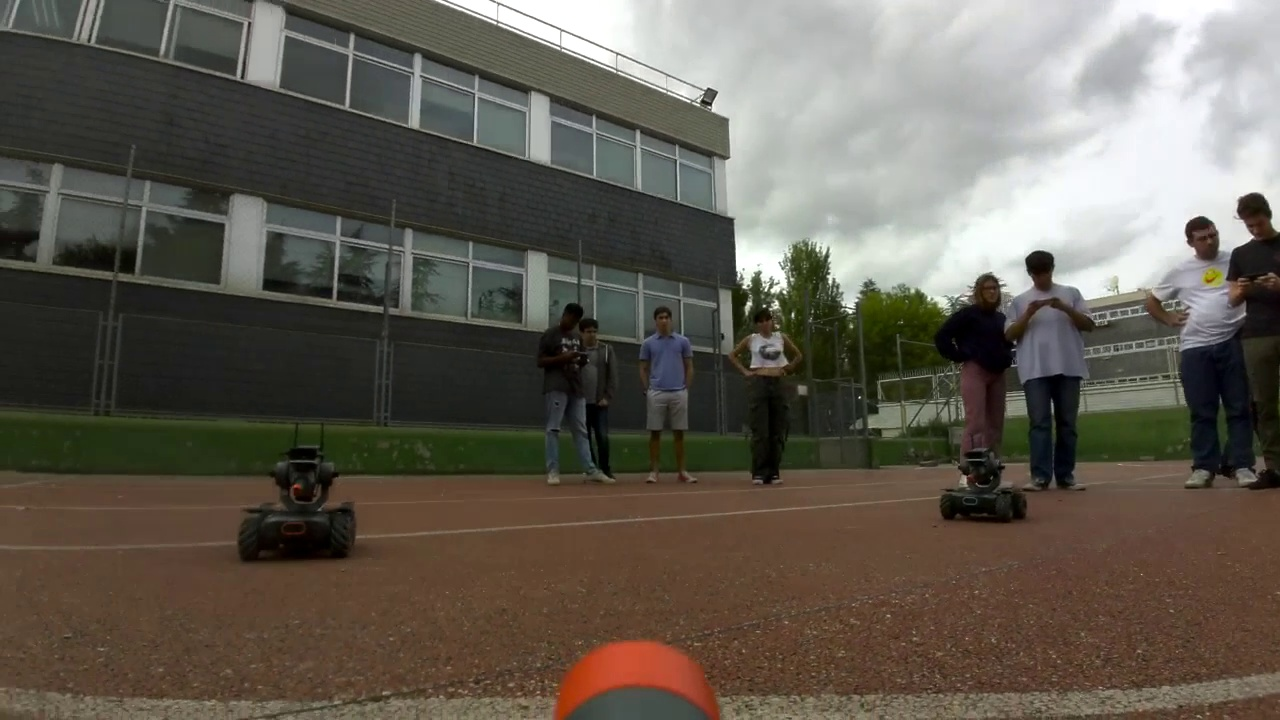robot: (240, 449, 356, 560), (941, 455, 1026, 525)
